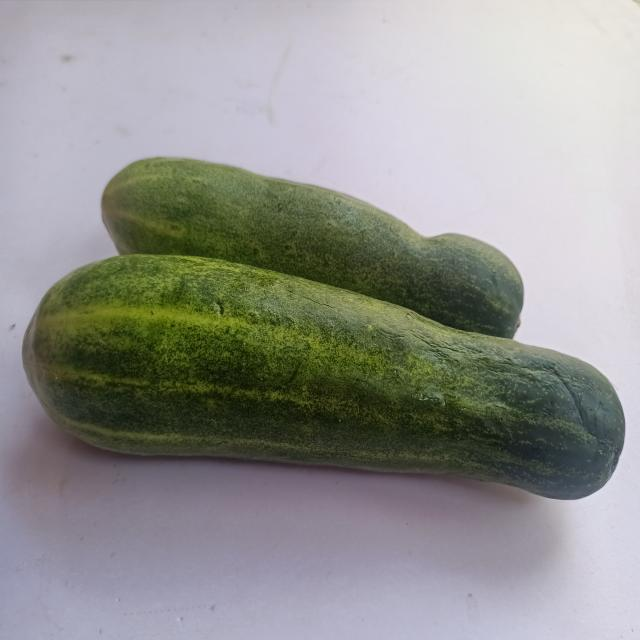Cucumber: (22, 254, 626, 500), (101, 157, 524, 338)
